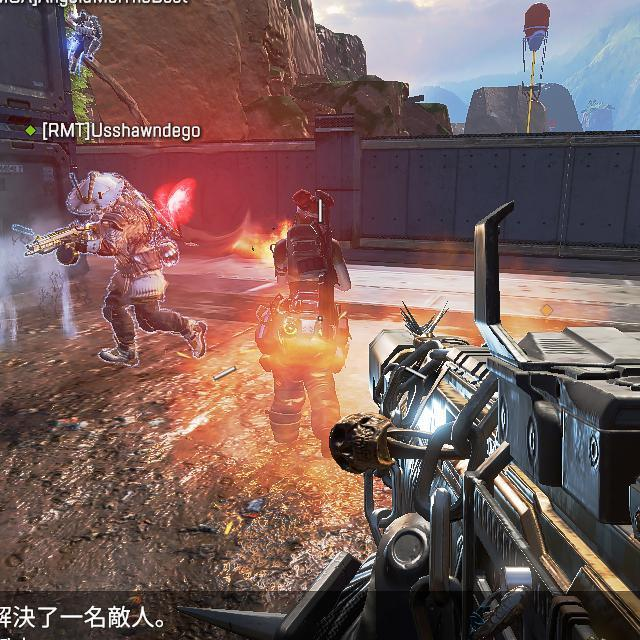avatar: (64, 170, 207, 368), (253, 188, 352, 459)
